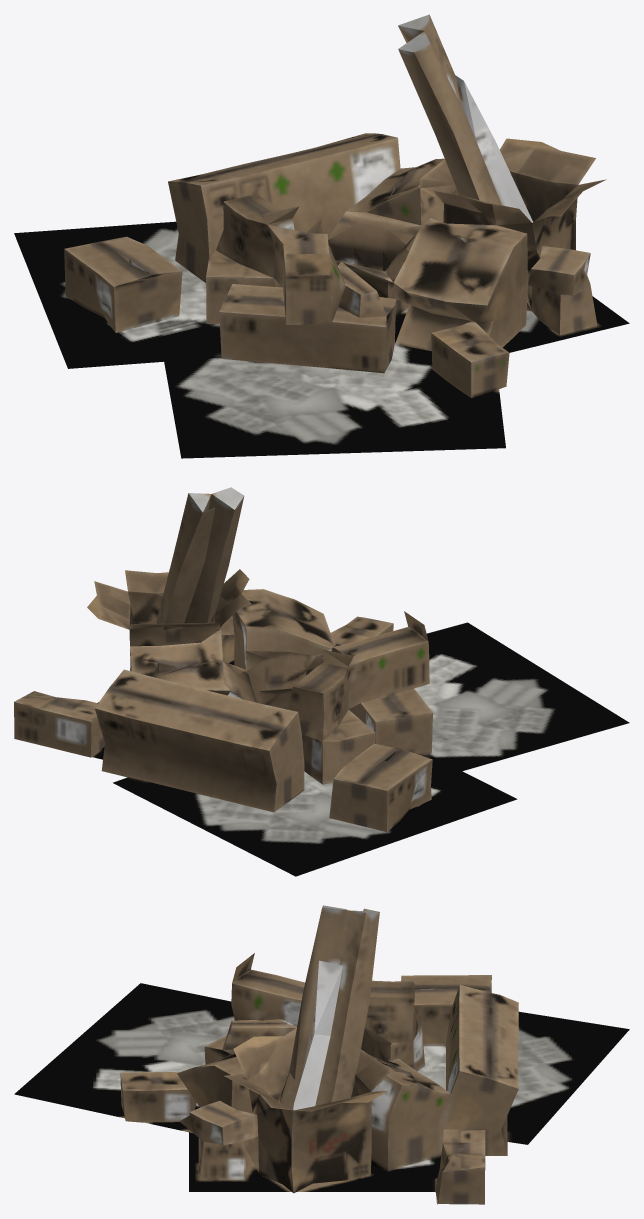
The model's file is cardboard_flat.glb.
The picture shows the model from 3 angles, top to bottom: view 1: azimuth 30°, elevation 25°; view 2: azimuth 150°, elevation 25°; view 3: azimuth 270°, elevation 25°; orthographic projection. The views are drawn at different scales.
Parts seen in each view (by area): view 1: mesh; view 2: mesh; view 3: mesh.
Part boxes in pixels (bbox=[...]): mesh: bbox=[14, 14, 629, 458]; mesh: bbox=[14, 487, 629, 876]; mesh: bbox=[14, 905, 629, 1204].
Bounding box in the file's own units: 0.2931 × 0.144 × 0.3414.
Materials: 1 (1 with a texture image).
